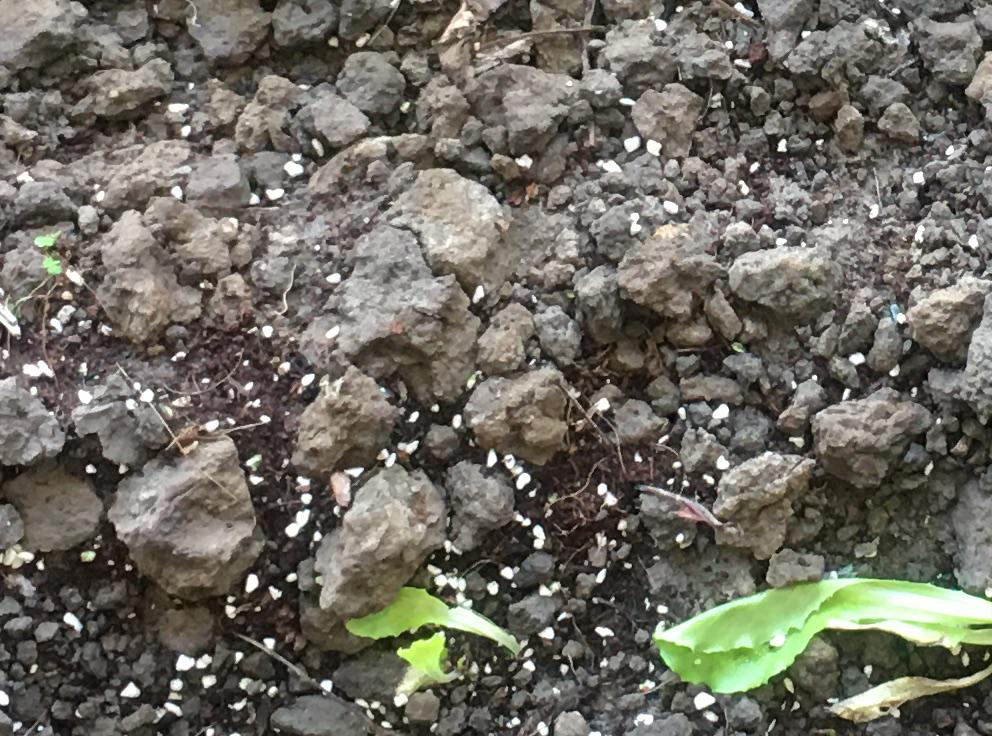block: (303, 224, 469, 395), (102, 436, 258, 598), (310, 473, 441, 618), (381, 162, 515, 278), (808, 390, 927, 492), (461, 56, 583, 155), (709, 445, 805, 555), (464, 373, 572, 462), (727, 243, 842, 322)
